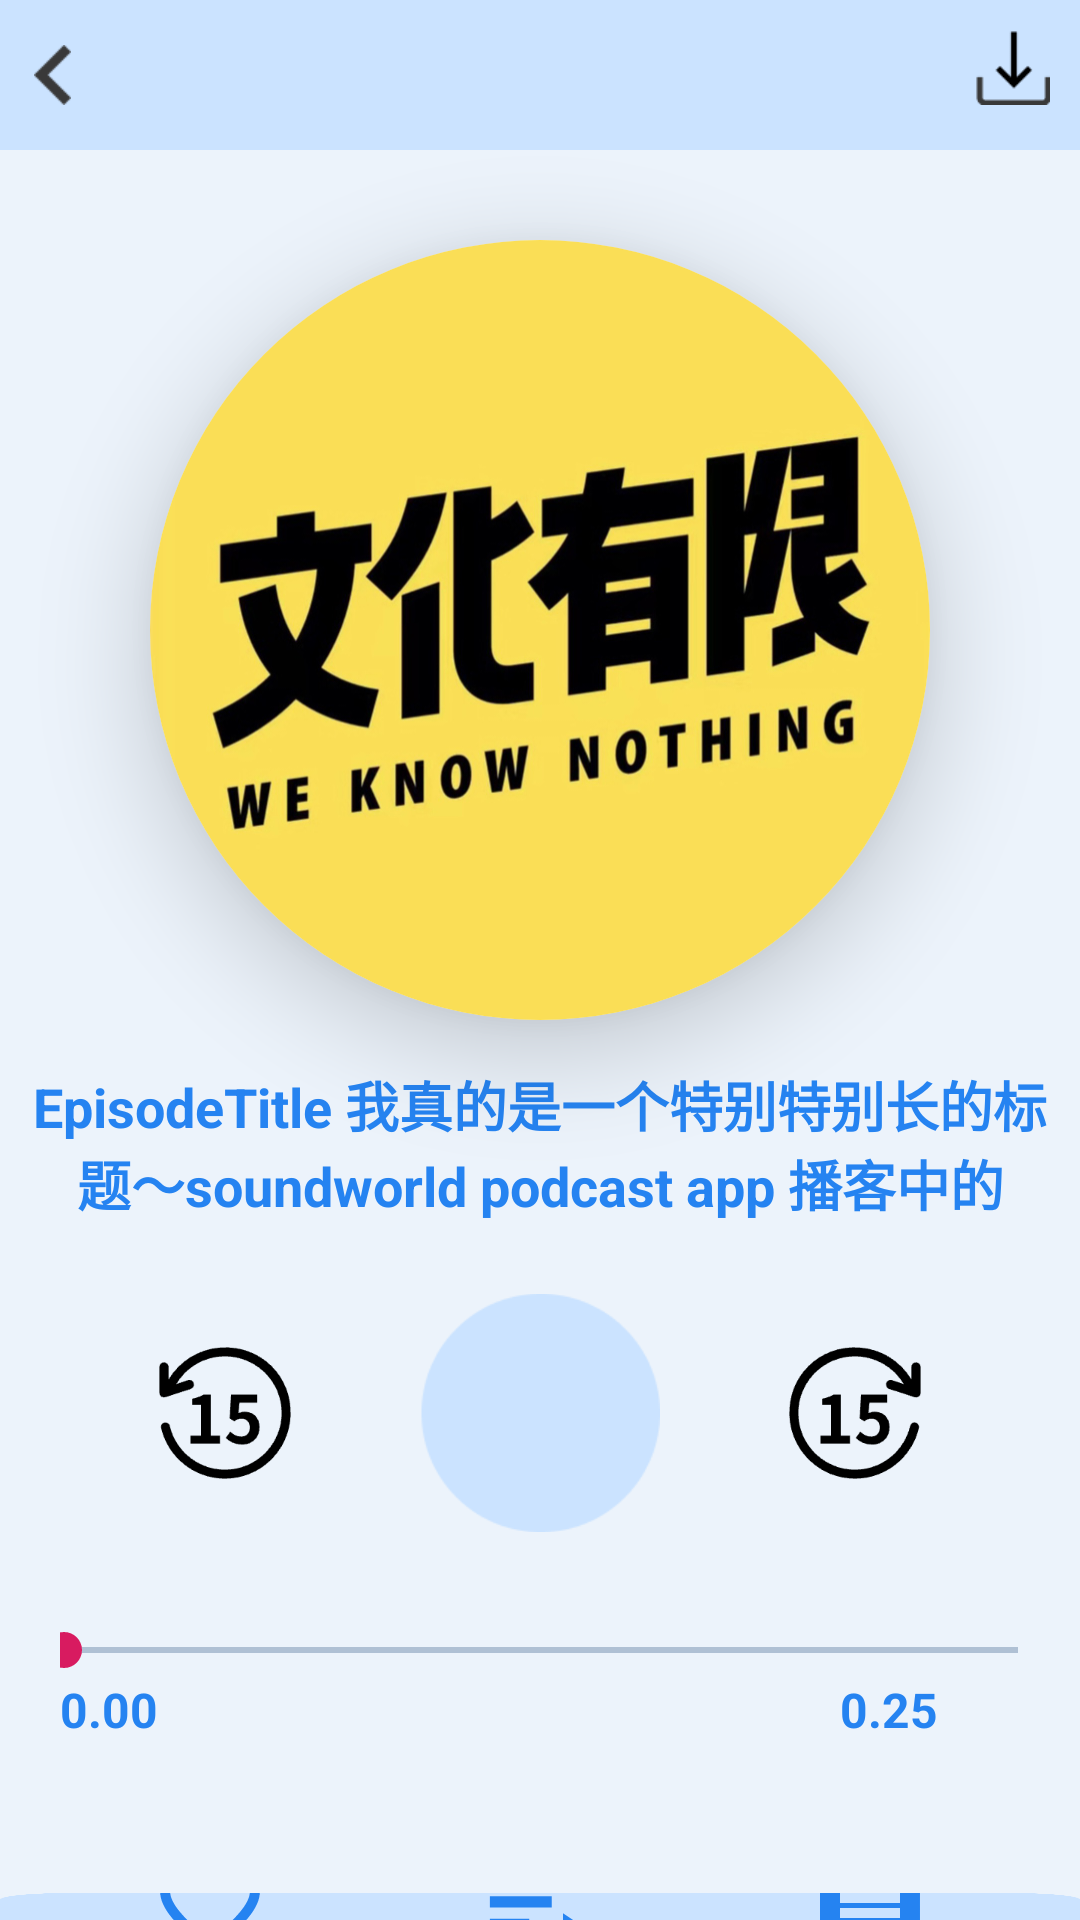

Locate icon controls on the screen. Image size 1080 × 1920, boxes as (x1, y1, x2, y2).
backicon: (34, 45, 71, 105)
download: (976, 31, 1050, 105)
forward: (789, 1347, 921, 1479)
